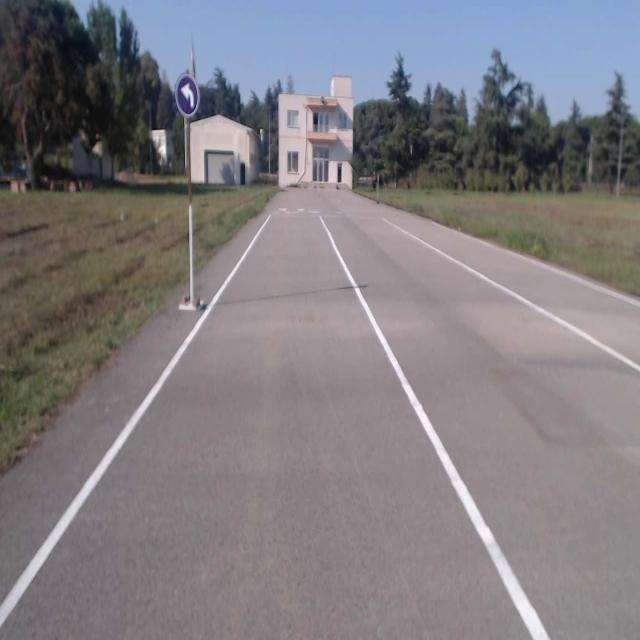sol: (172, 72, 200, 117)
